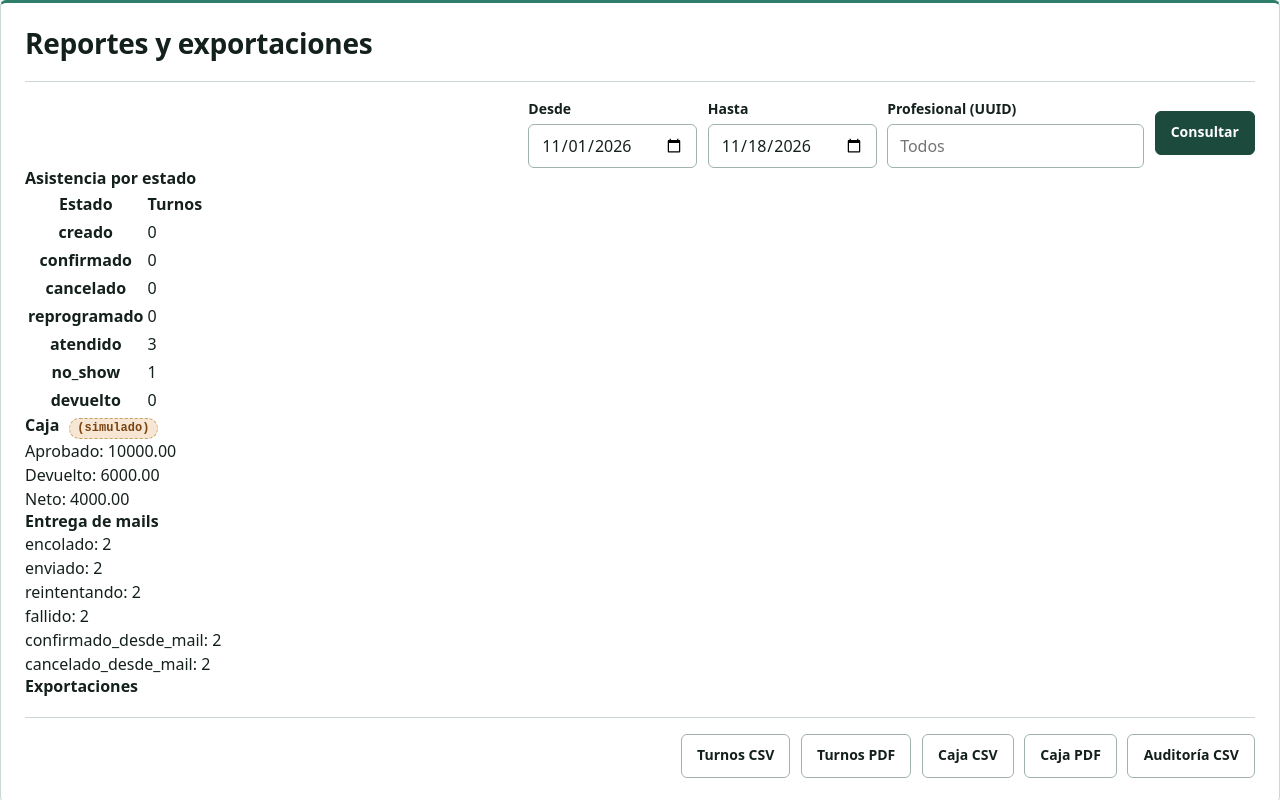
Test: ReportesPage › rechaza un período invertido sin llamar a la API
Expected: the text "Neto: 4000.00" is shown, [25,488,129,510]
Type "2027-01-01" into the date field labelled "Desde" at (613,146), box [528,124,697,168]
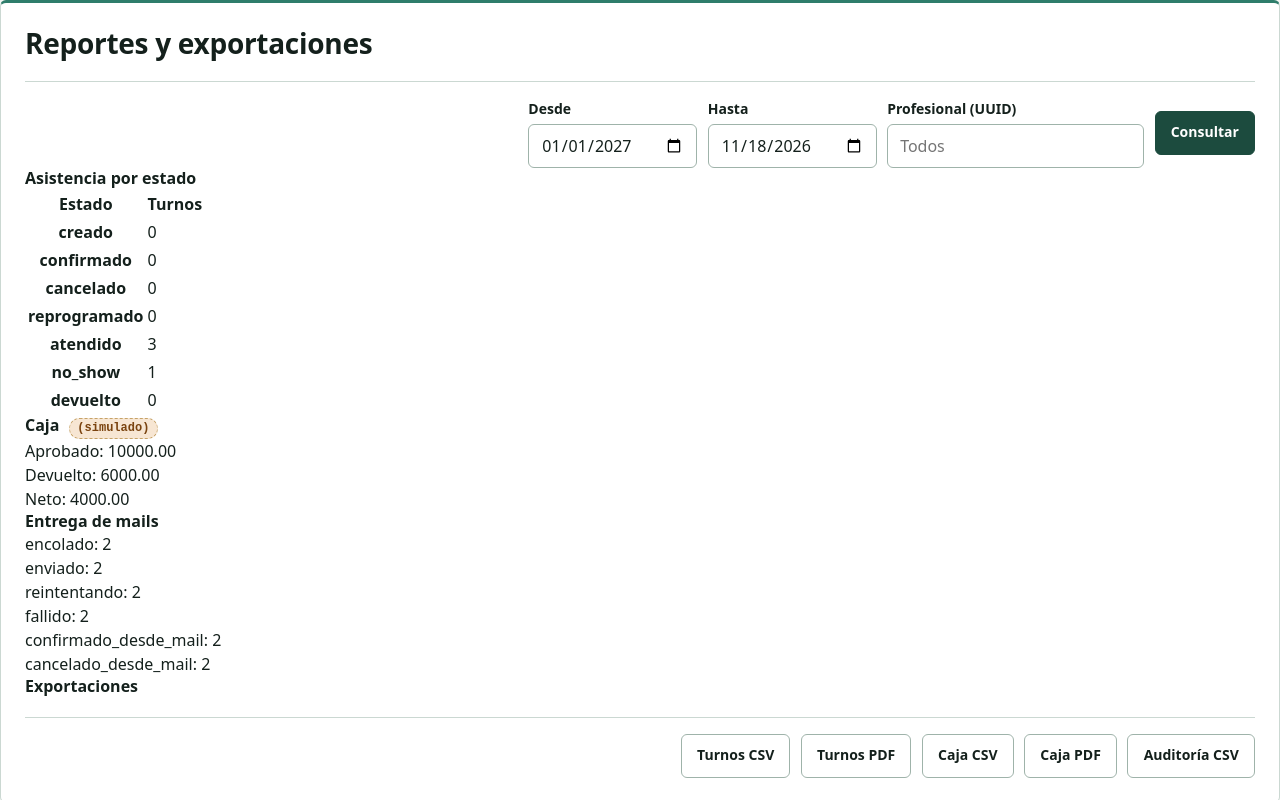
Type "2026-01-01" into the date field labelled "Hasta" at (792,146), box [708,124,877,168]
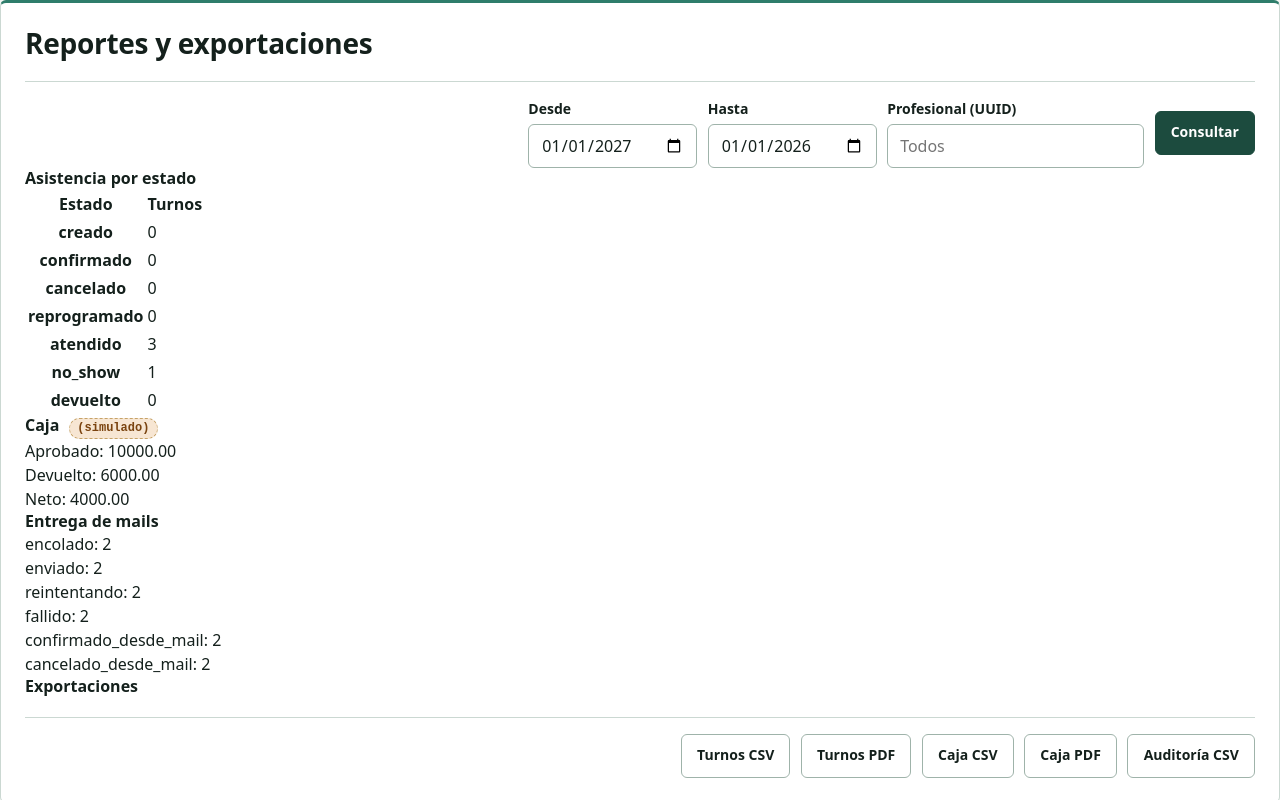
Click the button "Consultar" at (1205,133), box [1154,111,1255,155]
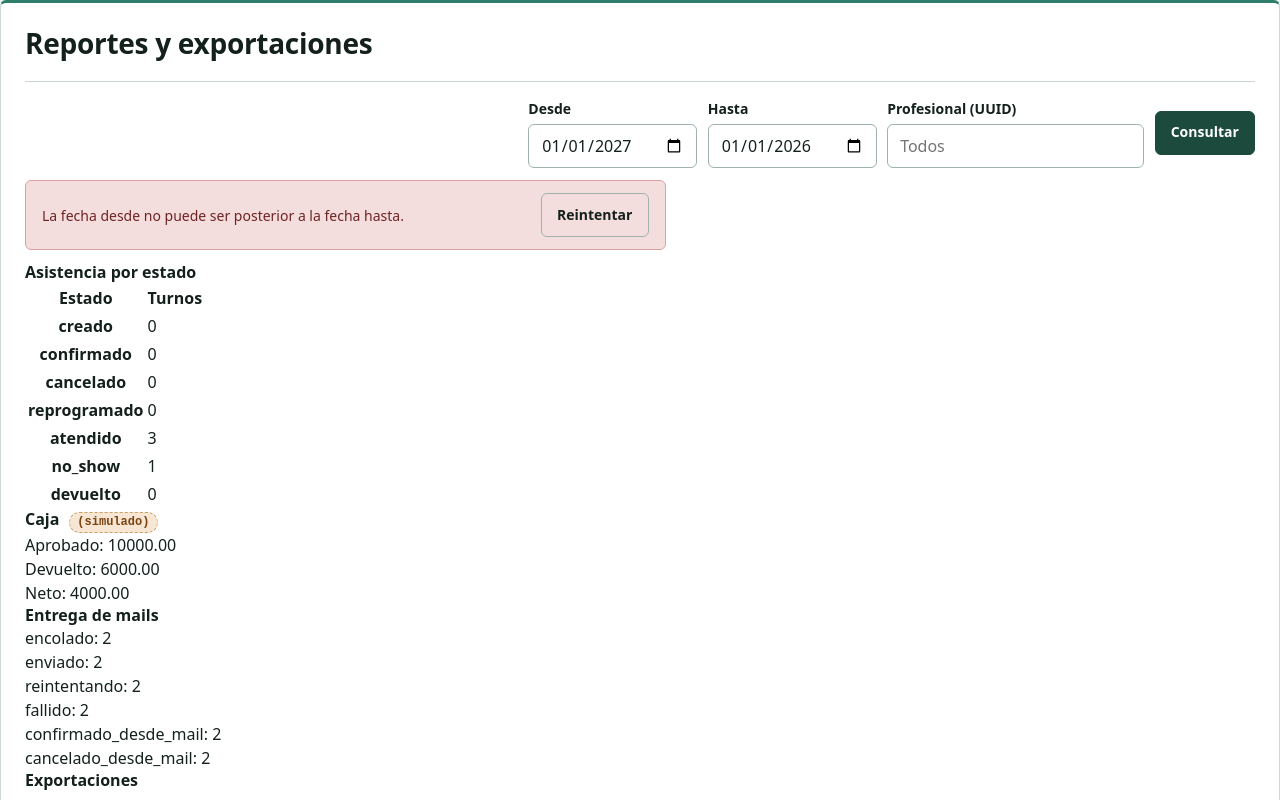
Expected: the message shows "posterior", [42,206,404,225]
